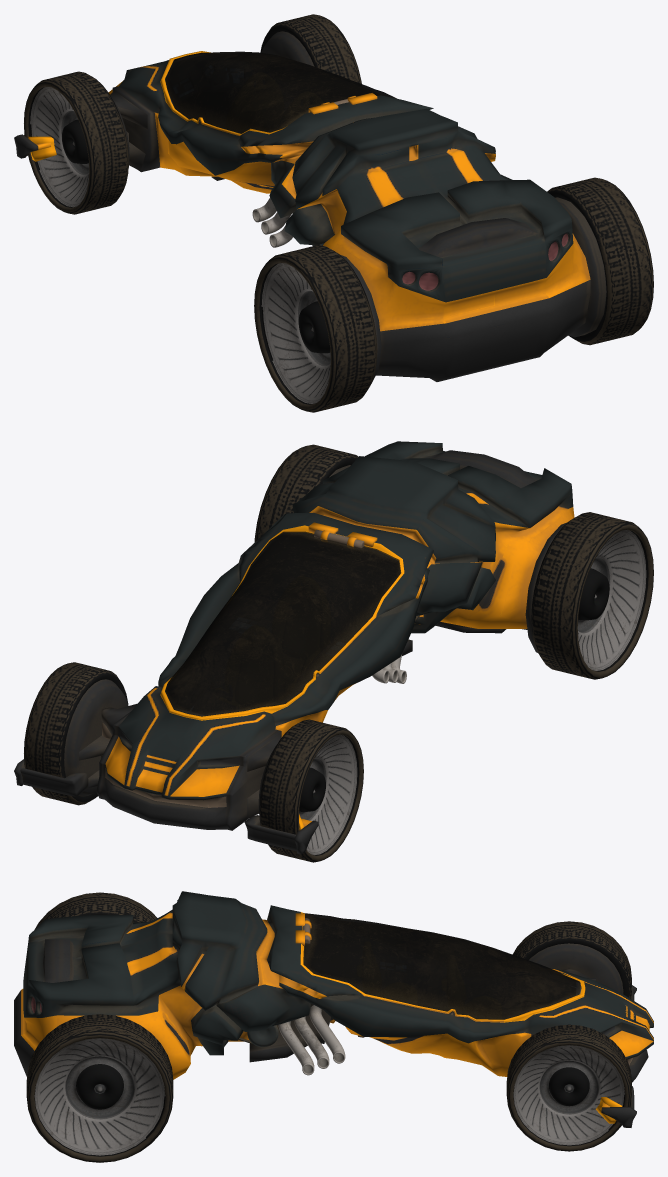
File: showcaseTexturedSportsCar.2cb94499.glb
3 views of the same model, one above another, from view 1: azimuth 30°, elevation 25°; view 2: azimuth 150°, elevation 25°; view 3: azimuth 270°, elevation 25° (orthographic). The views are drawn at different scales.
Visible parts, largest first — view 1: Object_4, Object_6, Object_7, Object_5, Object_3; view 2: Object_4, Object_5, Object_6, Object_7; view 3: Object_4, Object_6, Object_5, Object_7, Object_3.
Boxes of the visible parts, x1,y1,x2,y2 form: Object_4: (14,31,606,383); Object_6: (254,177,653,412); Object_7: (24,14,361,214); Object_5: (165,51,396,133); Object_3: (252,197,292,247); Object_4: (14,441,574,854); Object_5: (165,531,401,716); Object_6: (254,444,653,679); Object_7: (24,662,363,862); Object_4: (14,891,653,1127); Object_6: (26,892,173,1162); Object_5: (303,913,580,1019); Object_7: (506,921,631,1151); Object_3: (238,1005,345,1075).
Size of the model in its own units: 3.64 by 2.21 by 6.96.
7 materials, 5 textured.
